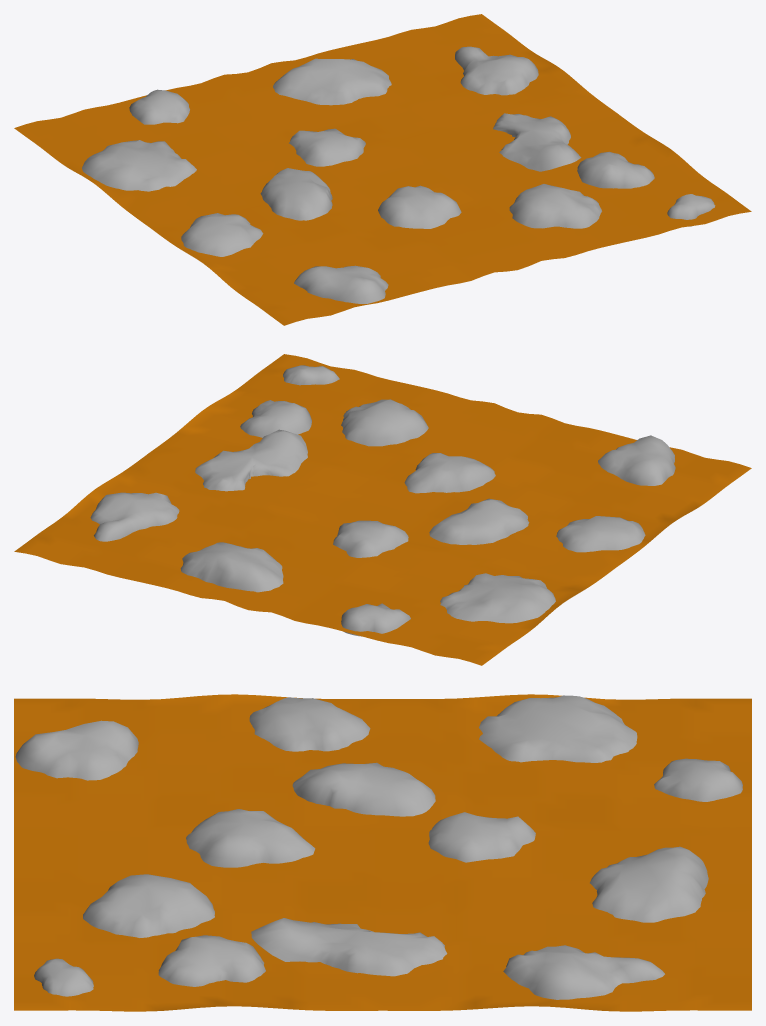
File: Lava Tile.fbx
3 views of the same model, one above another, from view 1: azimuth 30°, elevation 25°; view 2: azimuth 150°, elevation 25°; view 3: azimuth 270°, elevation 25° (orthographic). The views are drawn at different scales.
Visible parts, largest first — view 1: lava, lava_rocks; view 2: lava, lava_rocks; view 3: lava, lava_rocks.
Boxes of the visible parts, <box> form: lava: <box>14,14,751,325</box>; lava_rocks: <box>82,46,715,303</box>; lava: <box>14,354,751,665</box>; lava_rocks: <box>90,365,675,636</box>; lava: <box>14,694,751,1011</box>; lava_rocks: <box>15,695,742,999</box>.
Size of the model in its own units: 1 by 0.0565 by 1.
